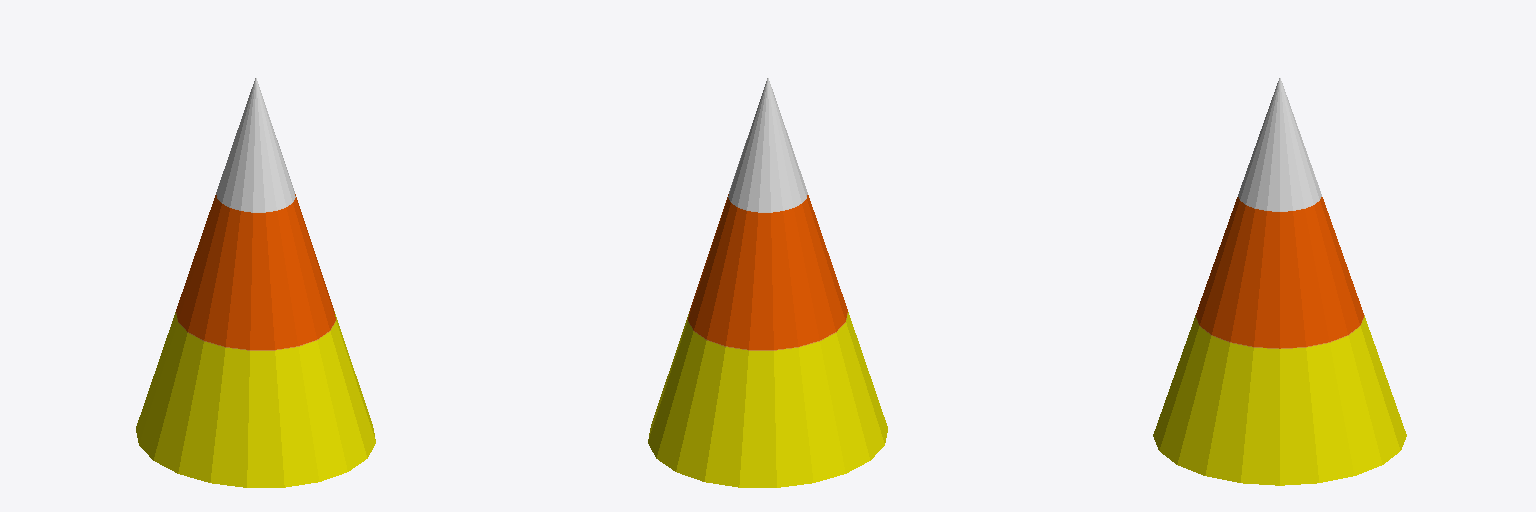
3 views of the same model, side by side, from view 1: azimuth 30°, elevation 25°; view 2: azimuth 150°, elevation 25°; view 3: azimuth 270°, elevation 25° (orthographic).
Visible parts, largest first — view 1: pCone1; view 2: pCone1; view 3: pCone1.
Boxes of the visible parts, box(x1,y1,x2,y2) form: pCone1: box(136, 78, 375, 487); pCone1: box(648, 78, 887, 487); pCone1: box(1153, 78, 1406, 485).
Size of the model in its own units: 2.66 by 4.45 by 2.85.
Materials: 1 (1 with a texture image).